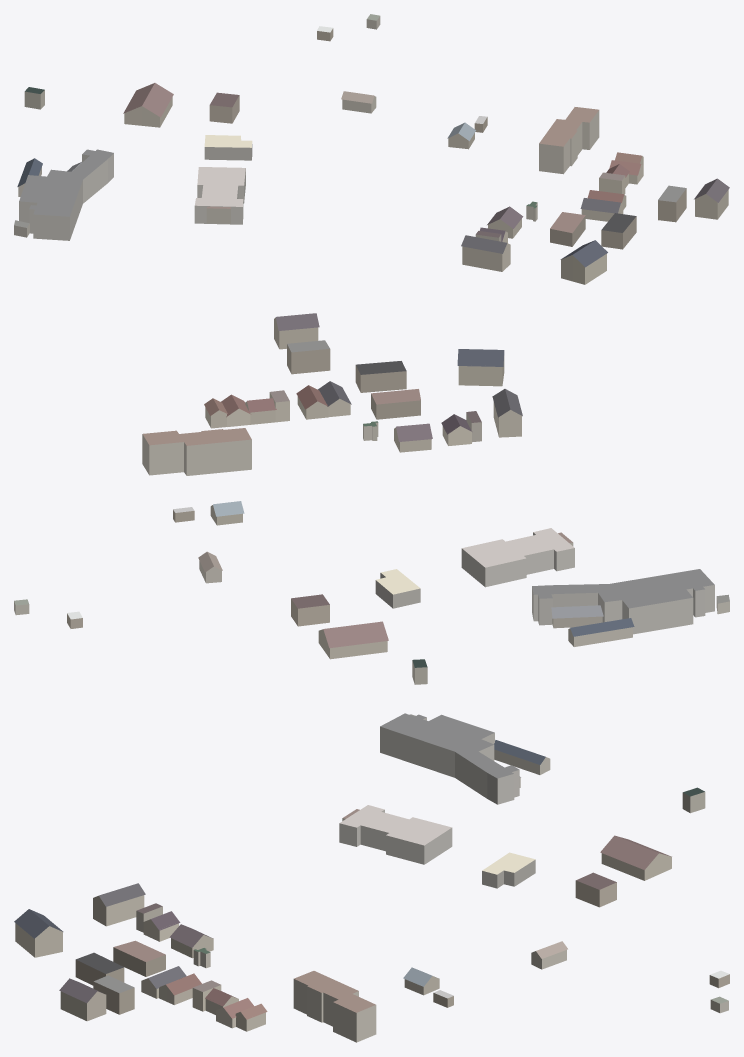
3 renders of one model, top to bottom at view 1: azimuth 30°, elevation 25°; view 2: azimuth 150°, elevation 25°; view 3: azimuth 270°, elevation 25°, orthographic. The views are drawn at different scales.
Parts seen in each view (by area): view 1: tuile; view 2: tuile; view 3: tuile.
Boxes of the visible parts, x1=… form: tuile: x1=14, y1=14, x2=729, y2=284; tuile: x1=14, y1=313, x2=729, y2=684; tuile: x1=14, y1=713, x2=729, y2=1042.
Size of the model in its own units: 226 by 18.61 by 229.
